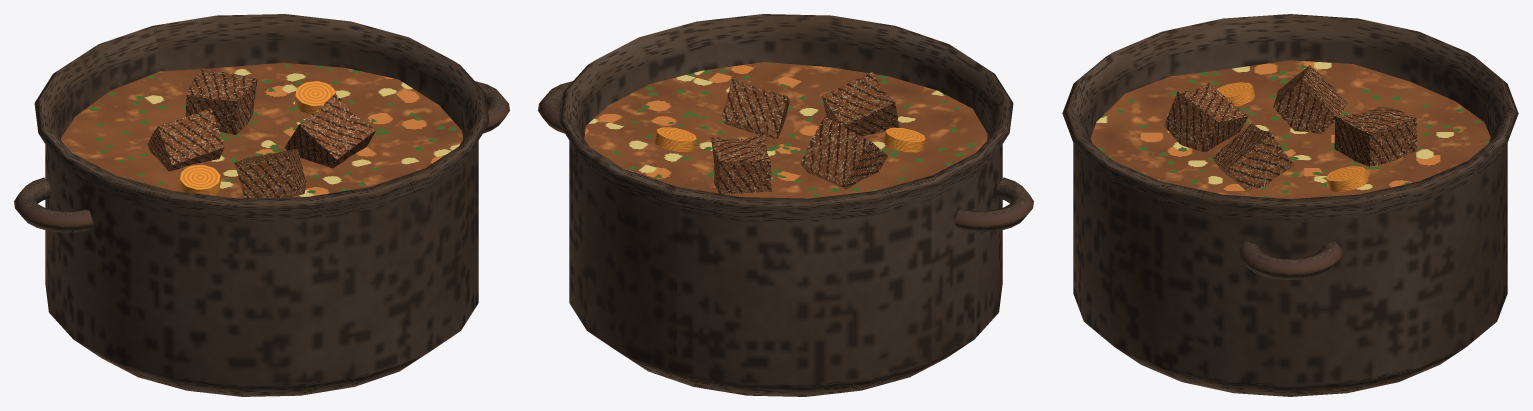
Rendered from meatstew.obj.
3 views of the same model, side by side, from view 1: azimuth 30°, elevation 25°; view 2: azimuth 150°, elevation 25°; view 3: azimuth 270°, elevation 25° (orthographic).
Visible parts, largest first — view 1: meatstew_0_surface; view 2: meatstew_0_surface; view 3: meatstew_0_surface.
Boxes of the visible parts, x1=… form: meatstew_0_surface: x1=14, y1=14, x2=509, y2=396; meatstew_0_surface: x1=538, y1=14, x2=1033, y2=396; meatstew_0_surface: x1=1062, y1=14, x2=1518, y2=396.
Bounding box in the file's own units: 0.294 × 0.1271 × 0.2415.
Materials: 1 (1 with a texture image).
